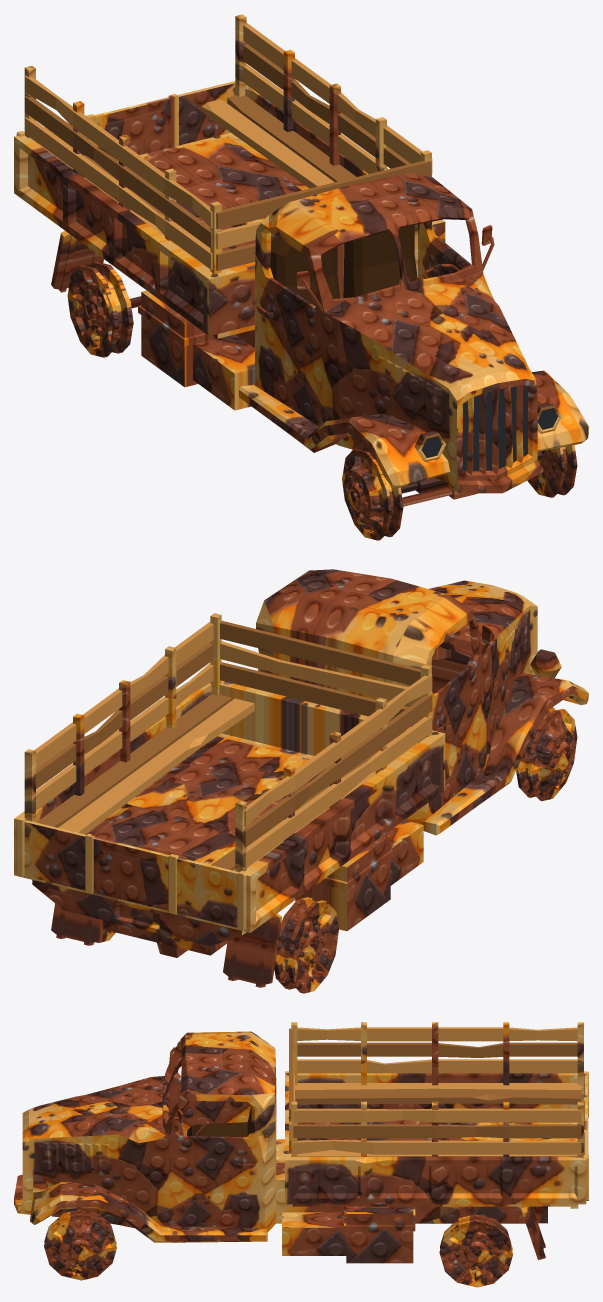
The model's file is SM_Prop_Truck_Rusted_01_stylized_reference.fbx.
3 renders of one model, top to bottom at view 1: azimuth 30°, elevation 25°; view 2: azimuth 150°, elevation 25°; view 3: azimuth 270°, elevation 25°, orthographic. The views are drawn at different scales.
Visible parts, largest first — view 1: SM_Prop_Truck_Rusted_01; view 2: SM_Prop_Truck_Rusted_01; view 3: SM_Prop_Truck_Rusted_01.
Part boxes in pixels (<box>): SM_Prop_Truck_Rusted_01: <box>14,14,588,540</box>; SM_Prop_Truck_Rusted_01: <box>14,569,588,993</box>; SM_Prop_Truck_Rusted_01: <box>14,1022,588,1287</box>.
Bounding box in the file's own units: 243 × 244 × 662.
Materials: 1 (1 with a texture image).
